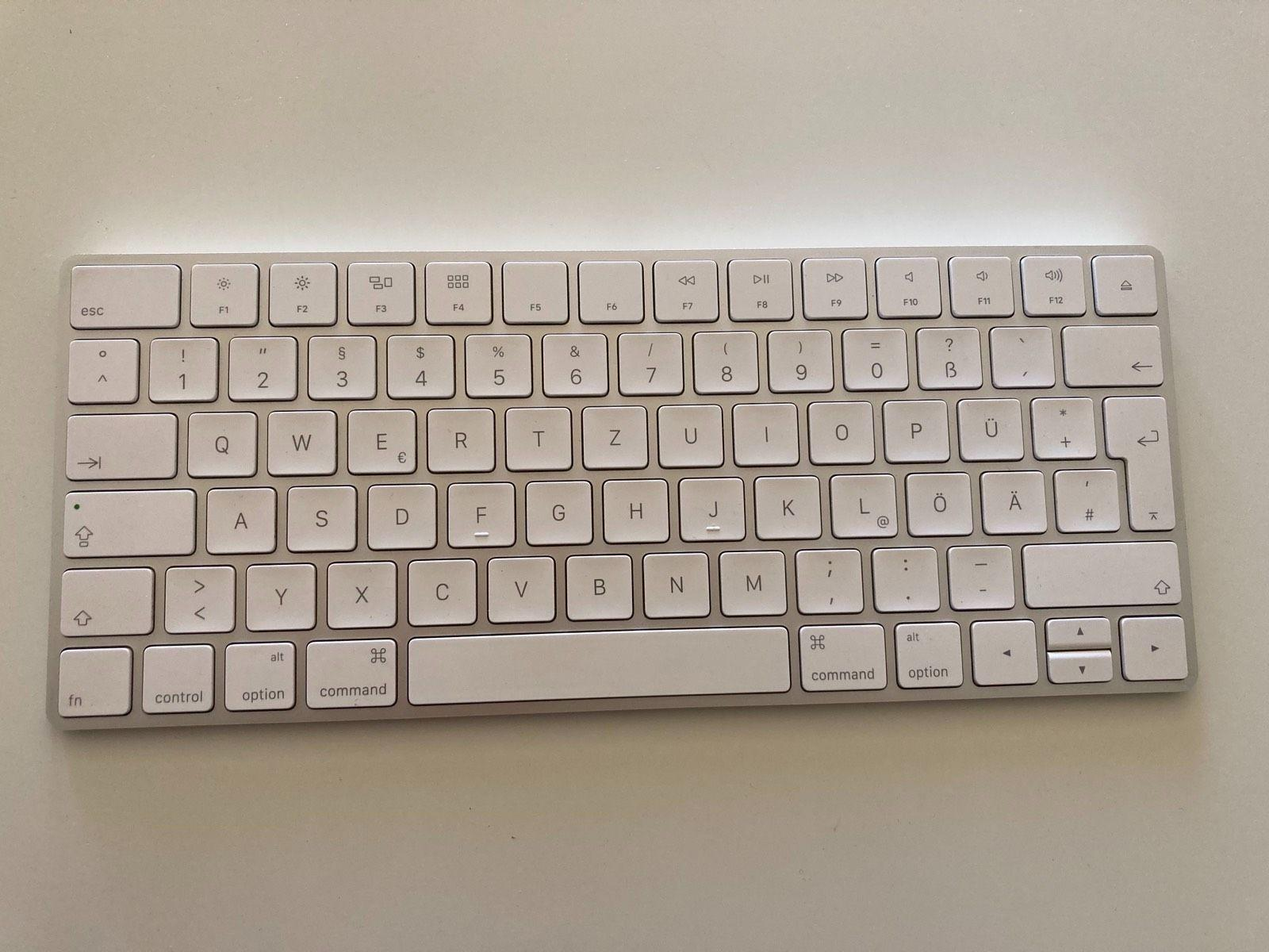0: (839, 324, 909, 390)
1: (145, 334, 220, 401)
2: (225, 332, 298, 400)
3: (305, 332, 378, 399)
4: (385, 331, 455, 397)
5: (462, 330, 533, 397)
6: (538, 329, 609, 396)
7: (615, 328, 684, 393)
8: (689, 327, 760, 393)
9: (765, 326, 834, 392)
a: (203, 484, 277, 555)
accent: (987, 323, 1055, 386)
ae: (979, 467, 1048, 534)
alt-left: (221, 639, 298, 712)
altgr-right: (891, 617, 964, 688)
b: (562, 551, 634, 619)
c: (404, 555, 478, 626)
caret: (64, 335, 138, 402)
comma: (792, 545, 864, 612)
d: (363, 481, 439, 550)
del: (1060, 321, 1164, 386)
e: (344, 405, 418, 474)
enter: (1101, 390, 1175, 530)
f: (444, 478, 516, 547)
g: (522, 478, 593, 545)
h: (599, 475, 670, 543)
hash: (1052, 466, 1120, 532)
i: (730, 398, 799, 465)
j: (675, 473, 745, 540)
k: (751, 471, 822, 539)
keyboard: (44, 239, 1199, 739)
l: (827, 469, 899, 539)
less: (161, 562, 236, 631)
m: (715, 546, 788, 615)
minus: (945, 543, 1014, 608)
n: (639, 549, 711, 617)
o: (804, 397, 875, 463)
oe: (903, 469, 973, 536)
p: (880, 397, 949, 462)
plus: (1029, 392, 1096, 459)
point: (869, 544, 941, 611)
q: (183, 408, 259, 478)
r: (424, 405, 496, 472)
s: (283, 482, 358, 552)
shift-left: (56, 563, 155, 635)
shift-lock: (59, 485, 196, 555)
shift-right: (1019, 536, 1180, 606)
space: (406, 627, 792, 708)
ss: (914, 324, 983, 388)
strg-left: (138, 639, 216, 716)
t: (503, 402, 573, 470)
tab: (63, 409, 177, 478)
u: (654, 401, 724, 467)
ue: (955, 394, 1025, 461)
v: (484, 553, 557, 623)
w: (264, 405, 338, 475)
x: (324, 558, 398, 628)
y: (243, 561, 318, 631)
z: (579, 401, 649, 468)
